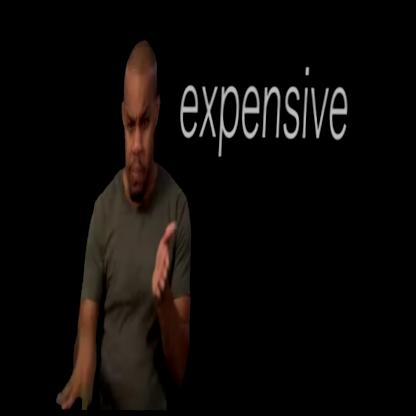Expensive: (48, 206, 188, 414)
